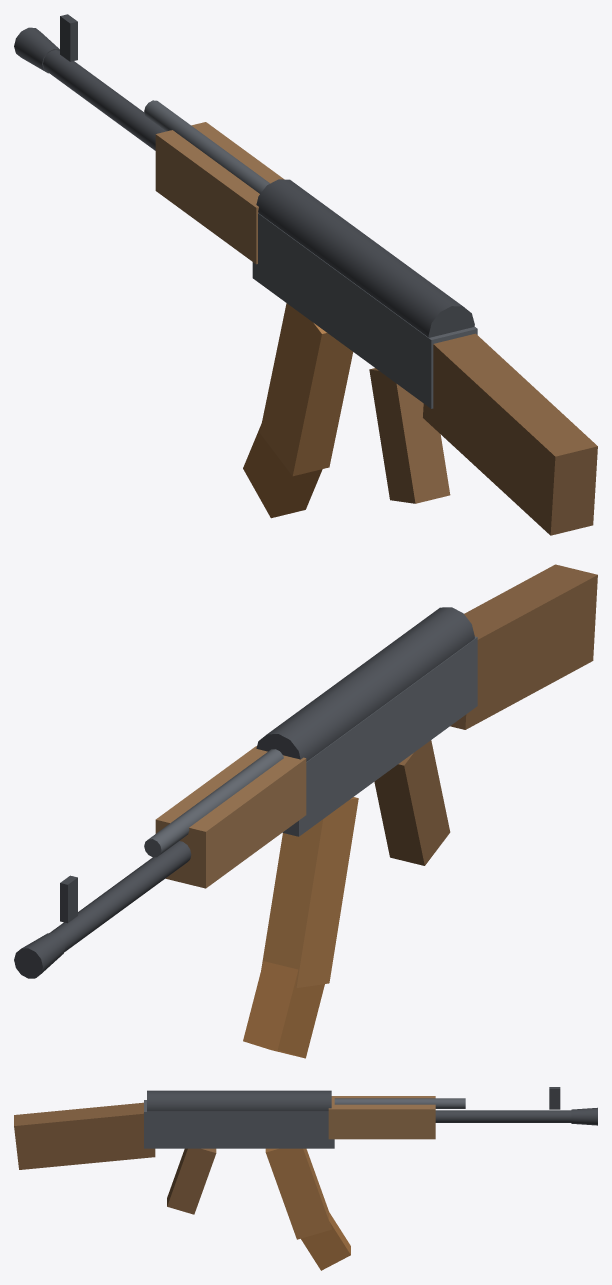
3 renders of one model, top to bottom at view 1: azimuth 30°, elevation 25°; view 2: azimuth 150°, elevation 25°; view 3: azimuth 270°, elevation 25°, orthographic. The views are drawn at different scales.
Parts seen in each view (by area): view 1: ak47; view 2: ak47; view 3: ak47.
Boxes of the visible parts, x1,y1,x2,y2 form: ak47: (14, 14, 597, 535); ak47: (14, 564, 597, 1058); ak47: (14, 1087, 597, 1270).
Bounding box in the file's own units: 0.052 × 0.3305 × 0.9812.
